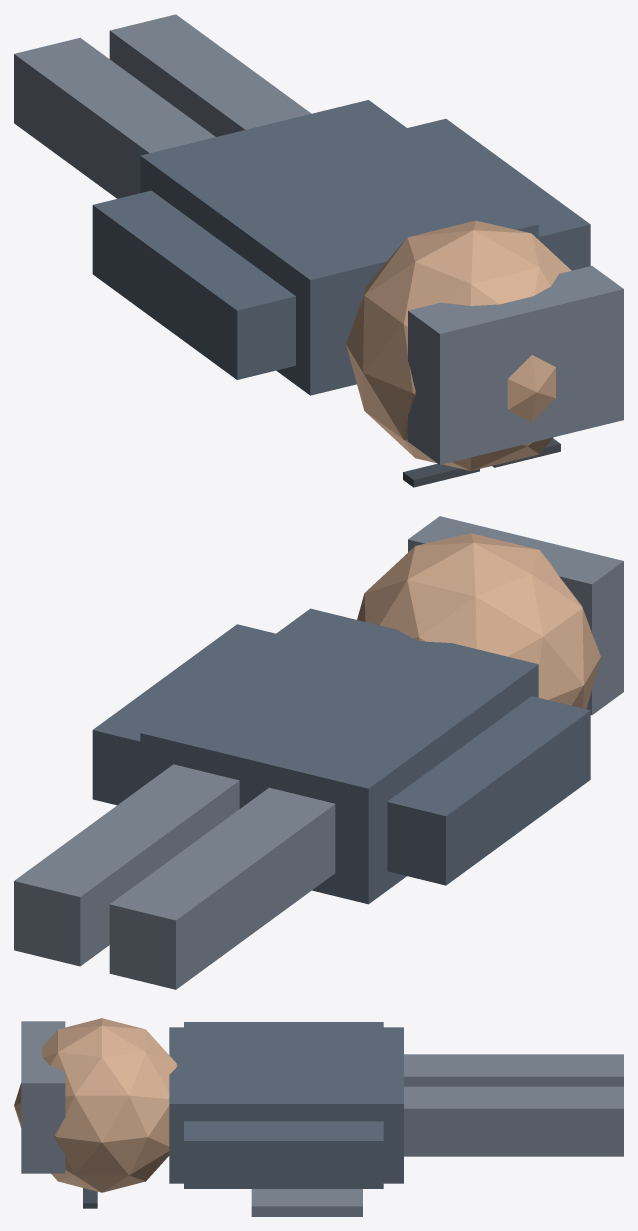
File: legal_variant_3.glb
The picture shows the model from 3 angles, top to bottom: view 1: azimuth 30°, elevation 25°; view 2: azimuth 150°, elevation 25°; view 3: azimuth 270°, elevation 25°; orthographic projection. The views are drawn at different scales.
Visible parts, largest first — view 1: torso_2, hair_6, head_5, arm_l_3, leg_l_0, leg_r_1, arm_r_4, glasses_l_7; view 2: torso_2, leg_l_0, head_5, arm_l_3, leg_r_1, arm_r_4, hair_6; view 3: torso_2, head_5, leg_r_1, arm_r_4, leg_l_0, hair_6, tablet_9, arm_l_3, glasses_r_8.
Boxes of the visible parts, left/top/right/bottom form: torso_2: left=140, top=100, right=538, bottom=395; hair_6: left=408, top=266, right=623, bottom=464; head_5: left=346, top=220, right=571, bottom=470; arm_l_3: left=92, top=190, right=295, bottom=379; leg_l_0: left=14, top=38, right=215, bottom=198; leg_r_1: left=109, top=14, right=311, bottom=136; arm_r_4: left=407, top=118, right=590, bottom=270; glasses_l_7: left=403, top=463, right=479, bottom=487; torso_2: left=140, top=608, right=538, bottom=904; leg_l_0: left=109, top=787, right=335, bottom=989; head_5: left=357, top=533, right=600, bottom=709; arm_l_3: left=387, top=696, right=590, bottom=885; leg_r_1: left=14, top=764, right=239, bottom=966; arm_r_4: left=92, top=624, right=275, bottom=805; hair_6: left=408, top=516, right=623, bottom=715; torso_2: left=169, top=1027, right=403, bottom=1183; head_5: left=14, top=1018, right=177, bottom=1192; leg_r_1: left=404, top=1086, right=623, bottom=1156; arm_r_4: left=184, top=1121, right=383, bottom=1188; leg_l_0: left=404, top=1054, right=623, bottom=1086; hair_6: left=21, top=1021, right=65, bottom=1173; tablet_9: left=251, top=1189, right=362, bottom=1216; arm_l_3: left=184, top=1022, right=383, bottom=1027; glasses_r_8: left=83, top=1188, right=97, bottom=1208.
Bounding box in the file's own units: 0.96 × 0.6 × 2.08.
